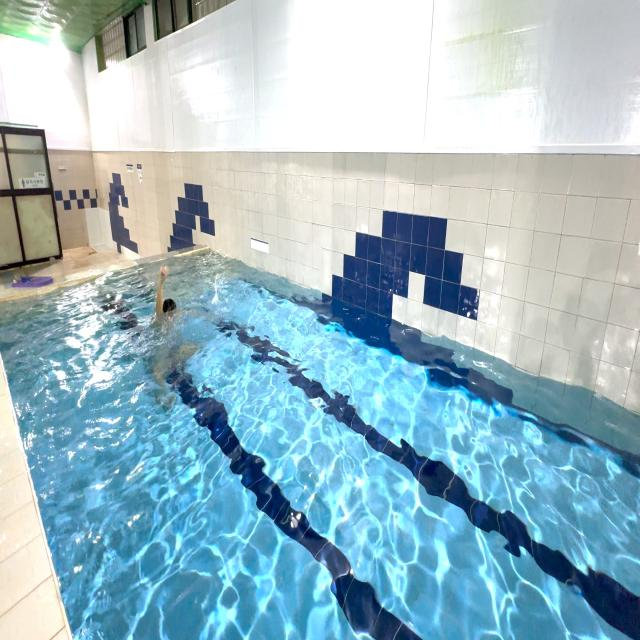Drowning: (124, 240, 218, 436)
